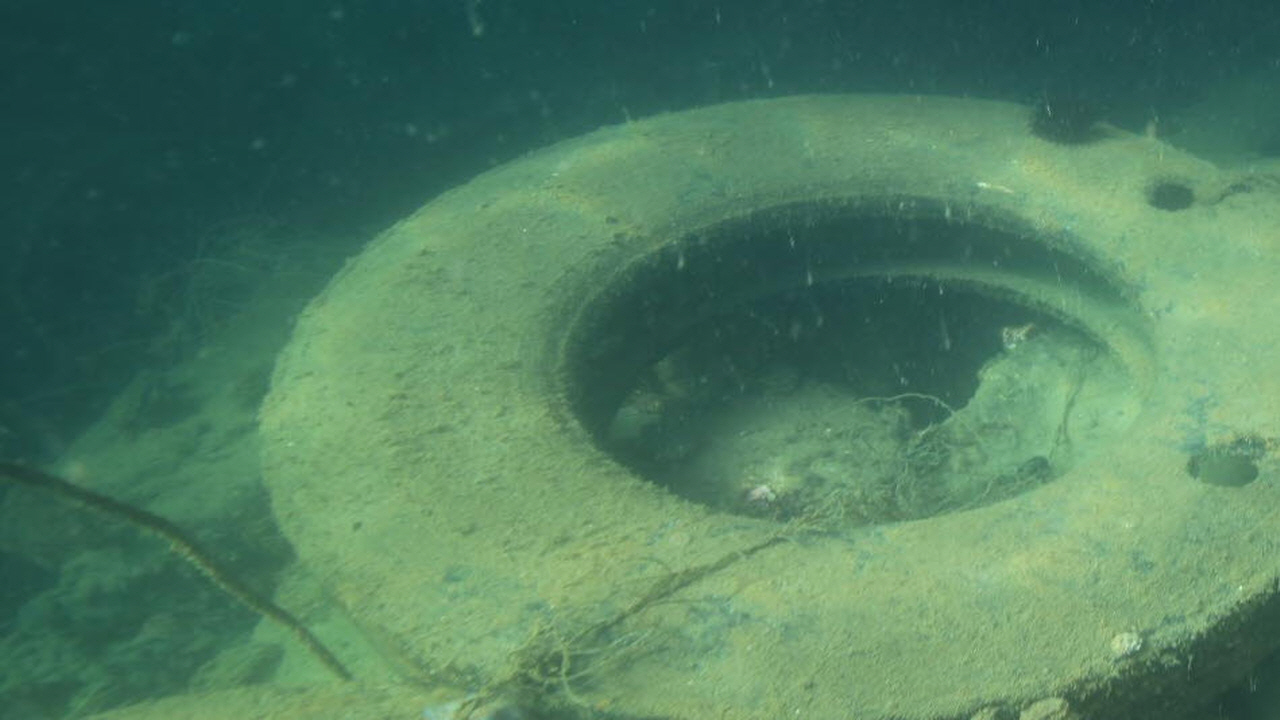tire: (259, 90, 1280, 720)
